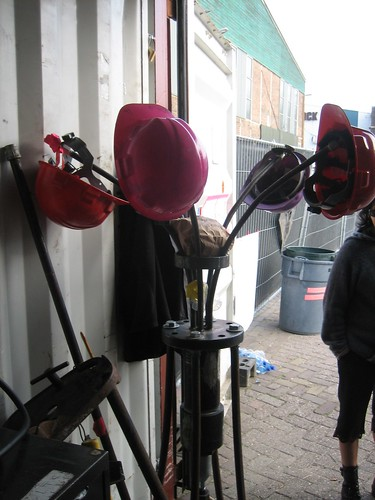hardhat: (106, 105, 212, 215), (34, 129, 126, 246), (301, 102, 375, 222), (242, 147, 309, 217)
